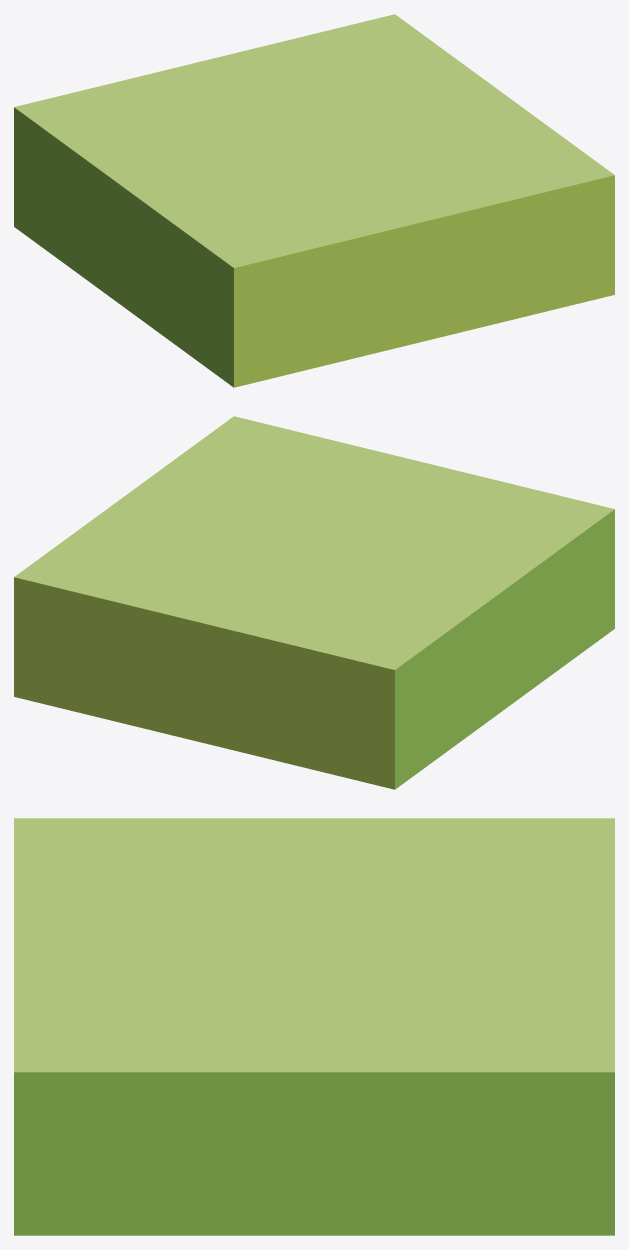
The model's file is floor_green5.fbx.
The picture shows the model from 3 angles, top to bottom: view 1: azimuth 30°, elevation 25°; view 2: azimuth 150°, elevation 25°; view 3: azimuth 270°, elevation 25°; orthographic projection. The views are drawn at different scales.
Parts seen in each view (by area): view 1: floor_green4; view 2: floor_green4; view 3: floor_green4.
Boxes of the visible parts, x1,y1,x2,y2 form: floor_green4: [14, 14, 614, 387]; floor_green4: [14, 416, 614, 789]; floor_green4: [14, 818, 614, 1235].
Bounding box in the file's own units: 100 × 30 × 100.
